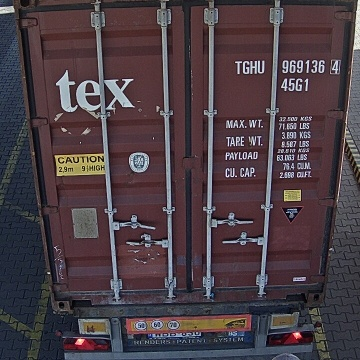serial_id: (235, 59, 340, 73)
